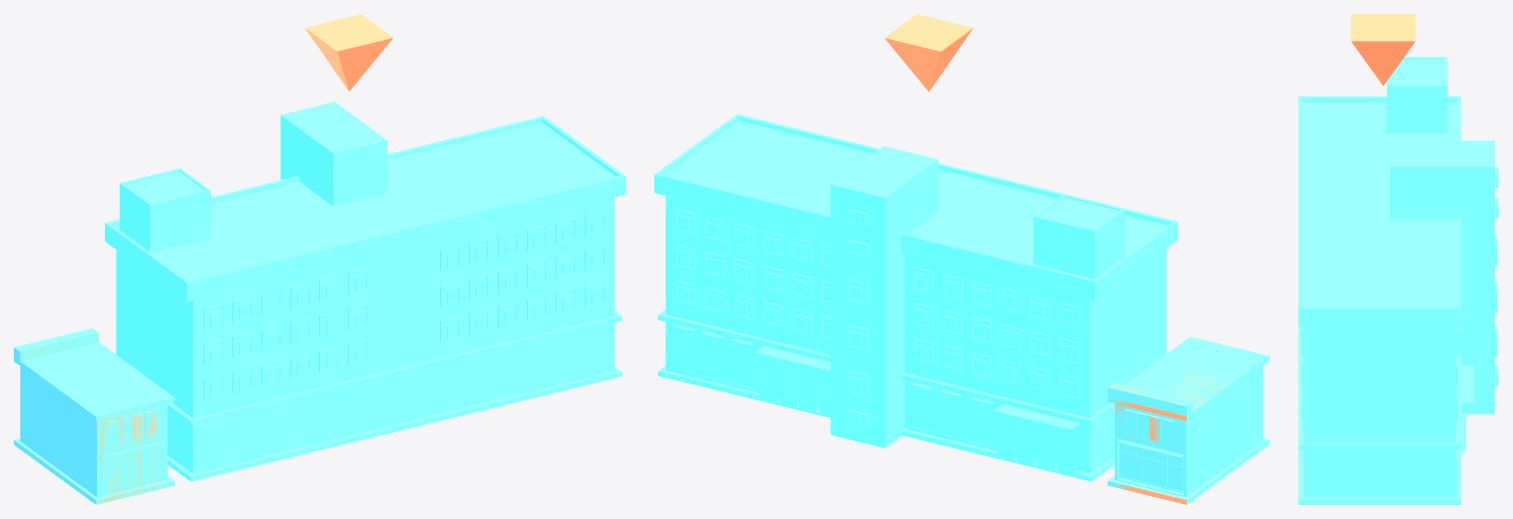
The model's file is build18.gltf.
3 views of the same model, side by side, from view 1: azimuth 30°, elevation 25°; view 2: azimuth 150°, elevation 25°; view 3: azimuth 270°, elevation 25° (orthographic).
Parts seen in each view (by area): view 1: subject (×2), fire-mark, fire; view 2: subject (×2), fire-mark, fire; view 3: subject, fire-mark.
Part boxes in pixels (box(x1,y1,x2,y2)): subject (×2): box(14, 101, 625, 504); fire-mark: box(305, 14, 393, 91); fire: box(20, 336, 173, 504); subject (×2): box(654, 114, 1269, 504); fire-mark: box(884, 14, 973, 91); fire: box(1108, 359, 1241, 504); subject: box(1298, 57, 1498, 504); fire-mark: box(1351, 14, 1415, 85).
Size of the model in its own units: 54.92 by 36.56 by 18.12.
